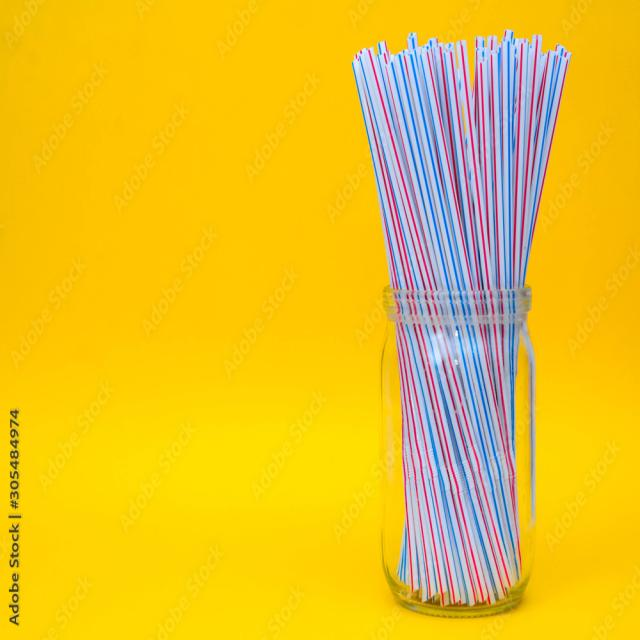plastic: (449, 30, 480, 308)
